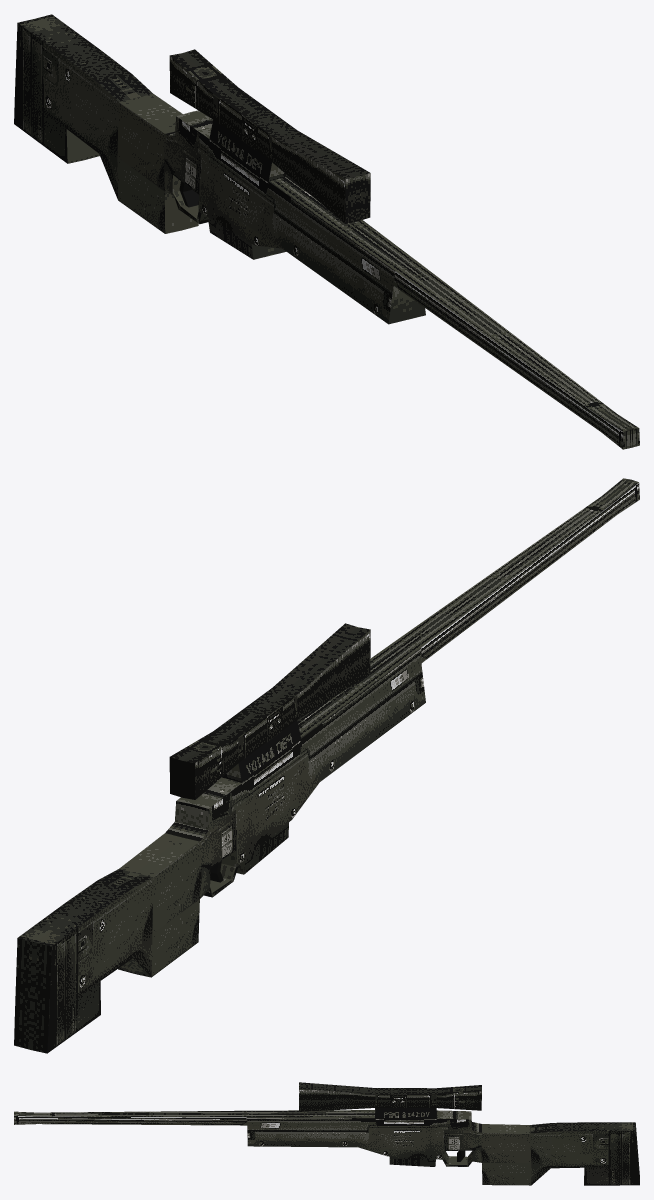
The model's file is sniper.glb.
3 renders of one model, top to bottom at view 1: azimuth 30°, elevation 25°; view 2: azimuth 150°, elevation 25°; view 3: azimuth 270°, elevation 25°, orthographic. The views are drawn at different scales.
Visible parts, largest first — view 1: sniper; view 2: sniper; view 3: sniper.
Boxes of the visible parts, x1=… form: sniper: x1=14, y1=14, x2=639, y2=449; sniper: x1=14, y1=478, x2=639, y2=1053; sniper: x1=14, y1=1082, x2=639, y2=1185.
Bounding box in the file's own units: 0.1576 × 0.741 × 4.37.
1 material, 1 textured.
